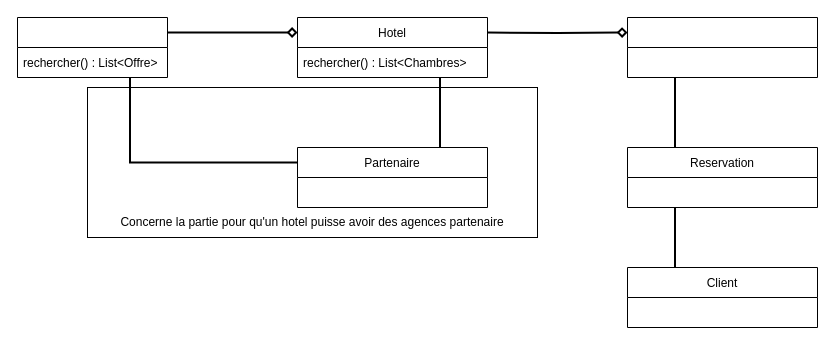
Image size: 835x345. Some labels were removed from this diagram. Here are the shapes that lost their labels. From the top down, the box of each, then its label:
(16, 16, 168, 78): Agence
(626, 16, 818, 78): Chambre
